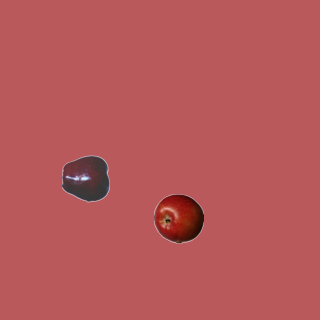Apple Braeburn: (153, 193, 203, 243)
Apple Red Delicious: (61, 153, 111, 203)
